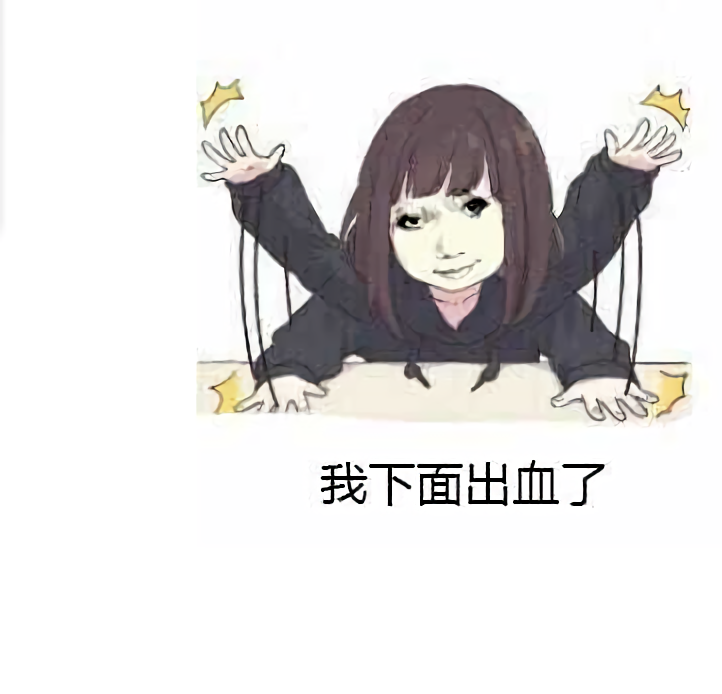dragon: (395, 191, 498, 281)
